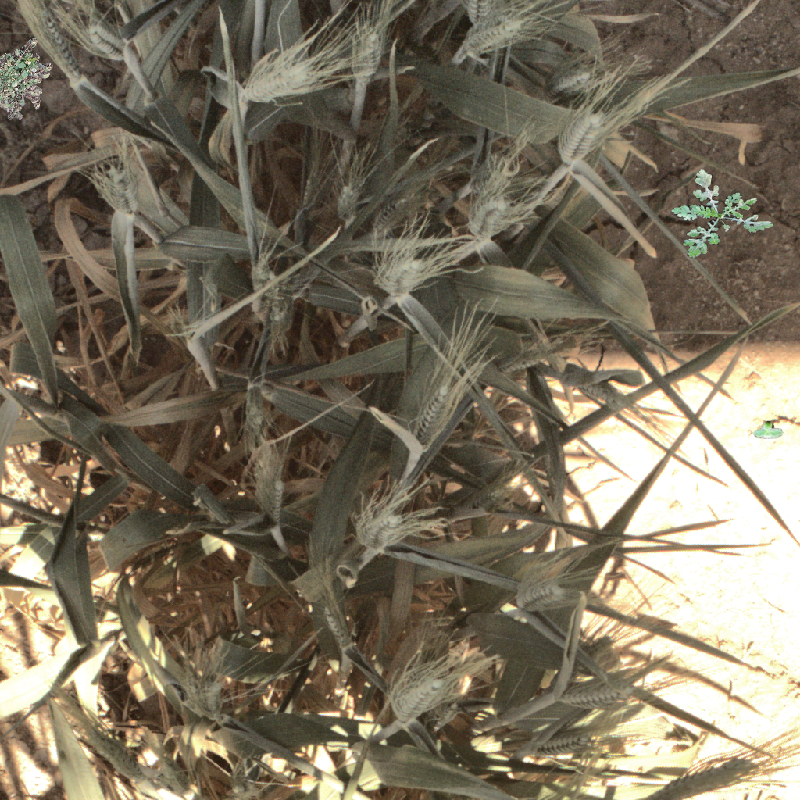spikelet: (465, 157, 519, 244), (451, 10, 531, 66), (237, 55, 319, 106), (33, 5, 87, 82), (412, 371, 457, 455), (383, 668, 450, 723), (252, 436, 288, 534), (658, 759, 753, 795), (249, 255, 294, 330), (564, 370, 637, 413), (557, 108, 608, 166), (179, 673, 229, 731), (347, 18, 386, 92), (373, 253, 432, 301), (353, 505, 408, 553), (558, 682, 647, 708), (512, 575, 571, 613), (97, 163, 140, 215), (371, 191, 417, 233), (494, 345, 566, 370), (523, 735, 597, 759), (549, 64, 603, 96), (334, 175, 365, 223)
weed: (671, 169, 773, 258), (1, 30, 53, 128), (753, 421, 784, 439)
